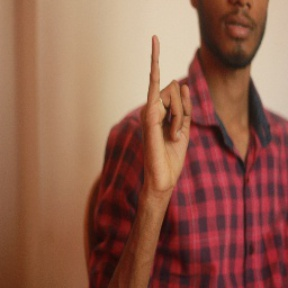I: (140, 34, 198, 189)
